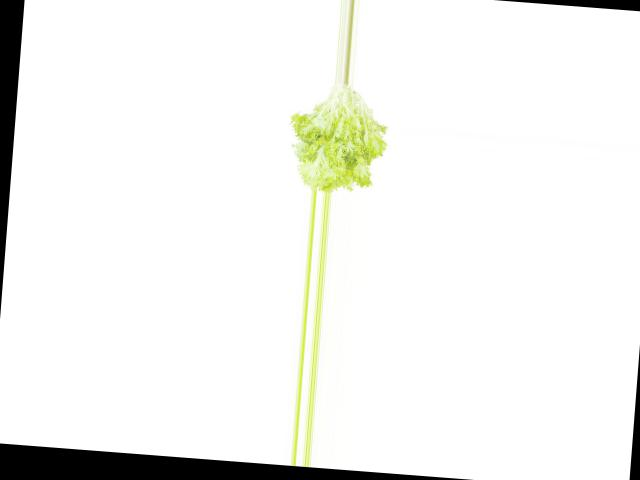lettuce: (284, 77, 396, 196)
